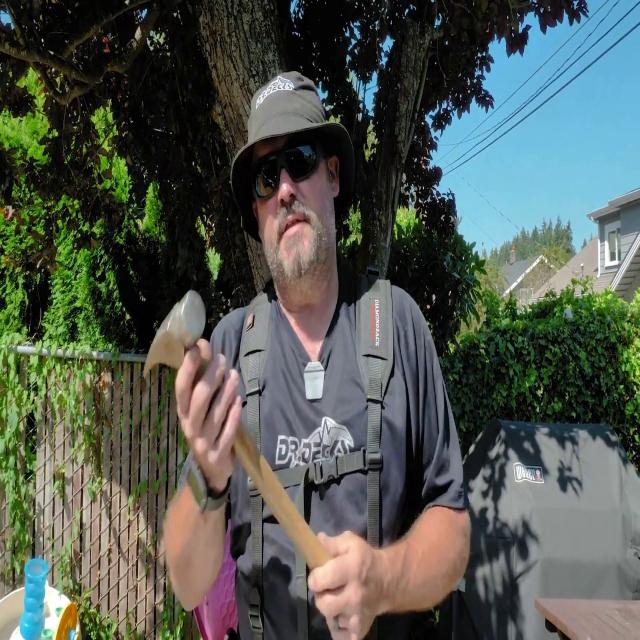hammer: (144, 289, 334, 577)
